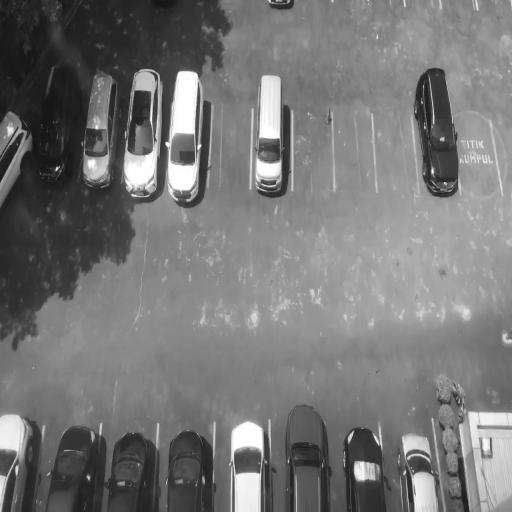Car: (408, 56, 463, 204), (30, 53, 87, 188), (77, 65, 126, 191), (122, 64, 164, 201), (41, 420, 101, 512), (166, 66, 204, 206), (281, 398, 327, 512), (338, 419, 390, 512), (252, 68, 288, 200), (226, 414, 268, 512), (162, 424, 208, 512), (104, 430, 152, 512), (0, 105, 36, 214), (396, 427, 442, 512), (0, 409, 35, 512)
Space Available: (208, 99, 254, 190), (456, 113, 502, 197), (373, 112, 419, 193), (292, 106, 335, 191), (334, 109, 378, 191)
